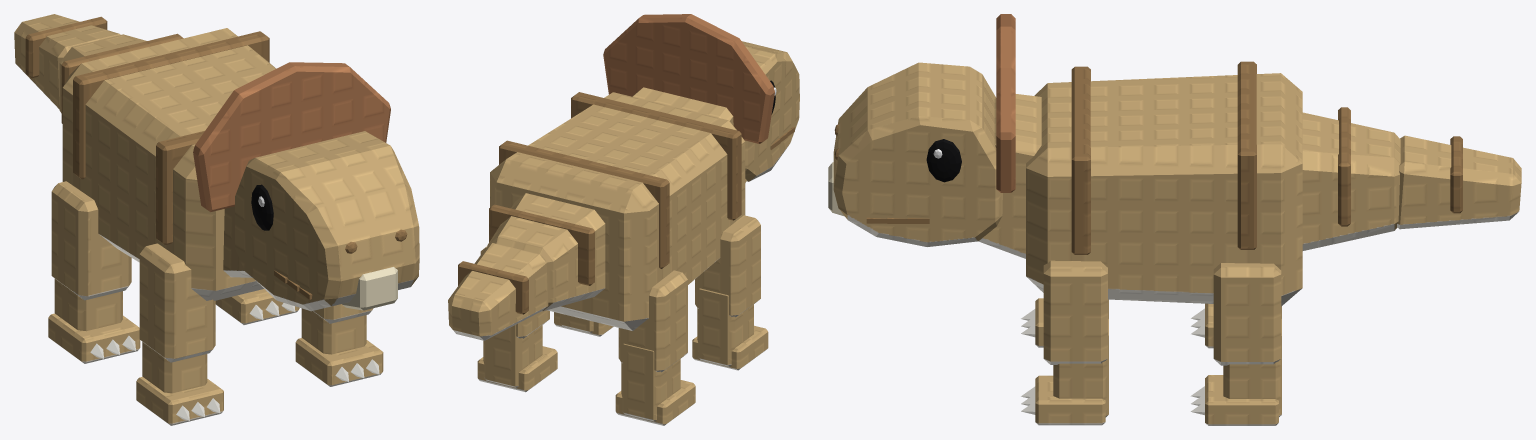
Rendered from 02_Protoceratops.glb.
3 renders of one model, left to right at view 1: azimuth 30°, elevation 25°; view 2: azimuth 150°, elevation 25°; view 3: azimuth 270°, elevation 25°, orthographic. The views are drawn at different scales.
Visible parts, largest first — view 1: 02_Protoceratops; view 2: 02_Protoceratops; view 3: 02_Protoceratops.
Boxes of the visible parts, x1,y1,x2,y2 form: 02_Protoceratops: [14, 14, 419, 425]; 02_Protoceratops: [448, 14, 799, 425]; 02_Protoceratops: [828, 14, 1521, 425].
Size of the model in its own units: 1.42 by 2.16 by 3.91.
Materials: 1 (1 with a texture image).
